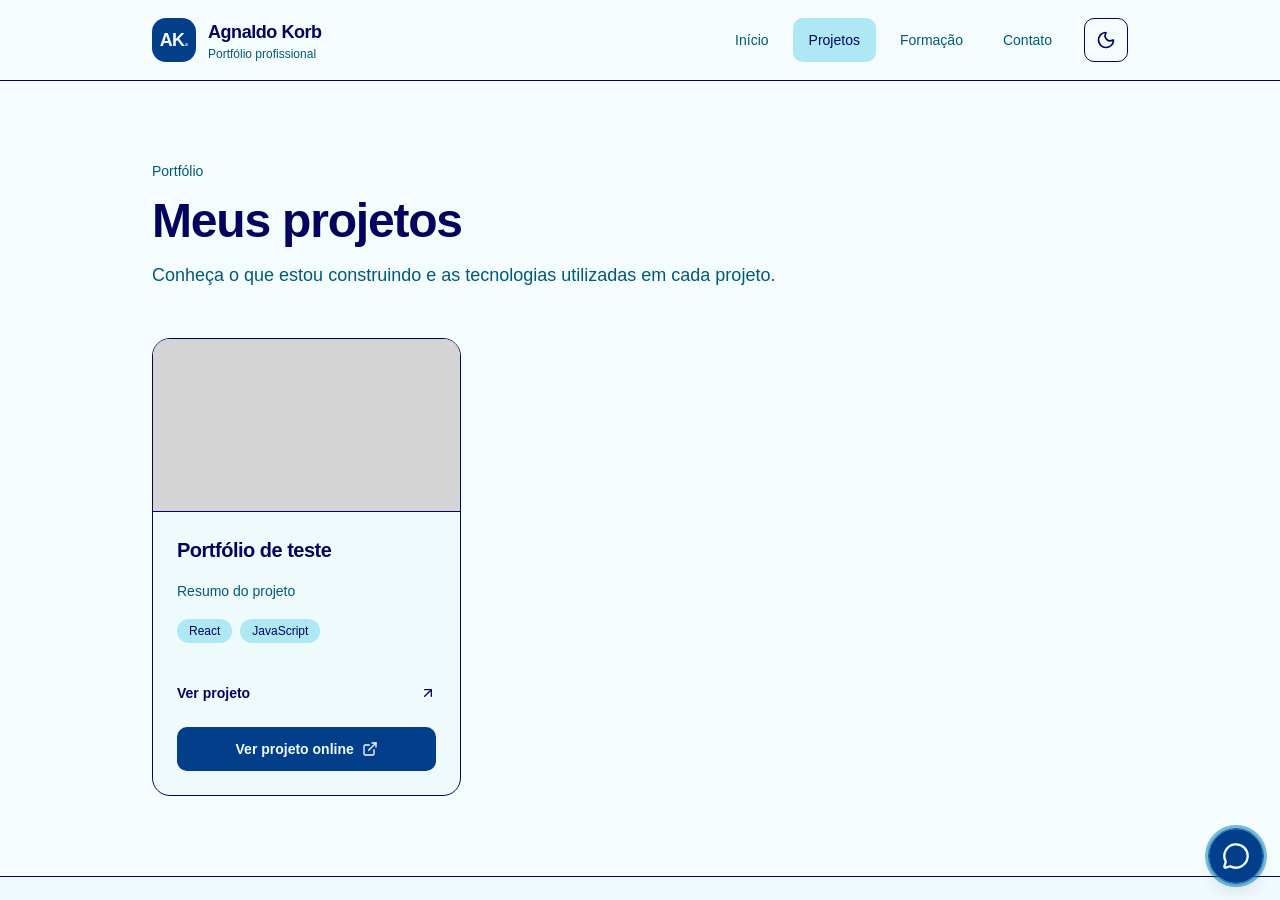
Navegação e páginas integradas › mantém o preview do projeto ao navegar do card aos detalhes
Click the link with aria-label "Ver projeto:": (214, 693) [177,685,436,701]
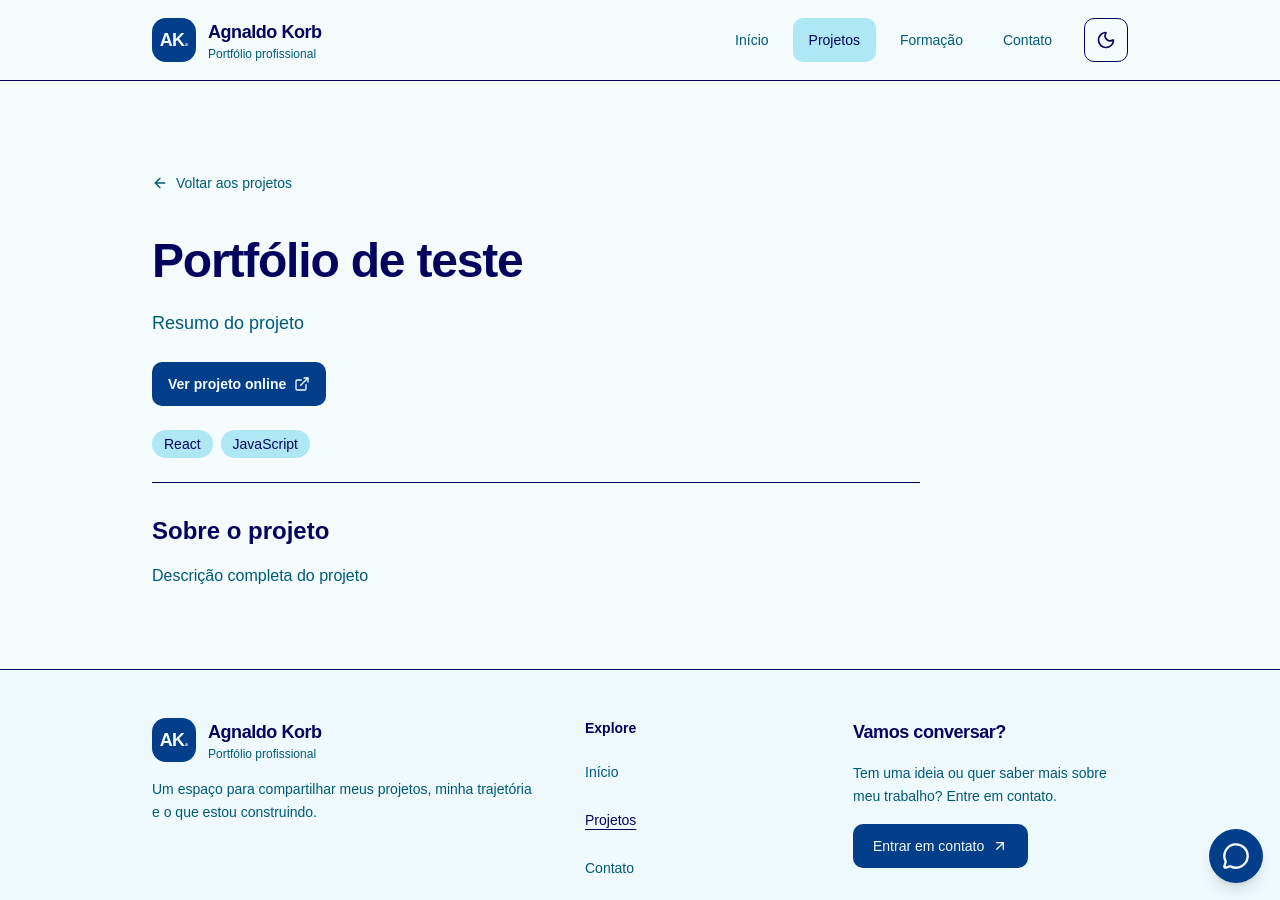
Result: the heading "Portfólio de teste" is shown at [152,234,522,287]
